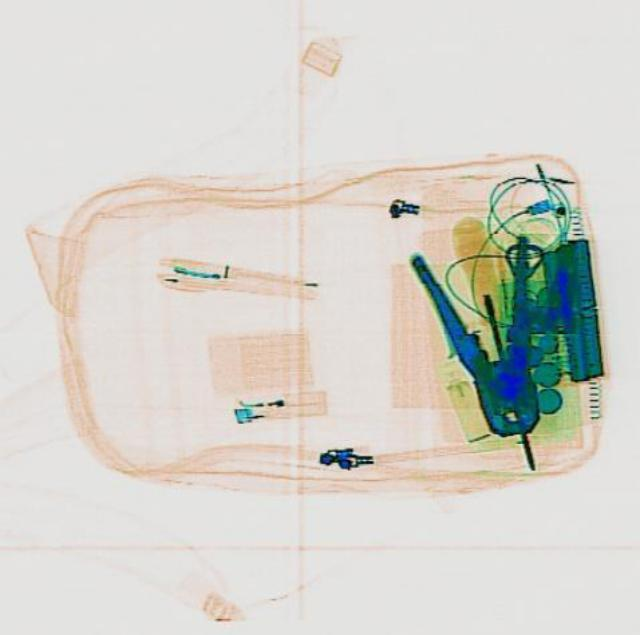Pliers: (410, 232, 572, 447)
